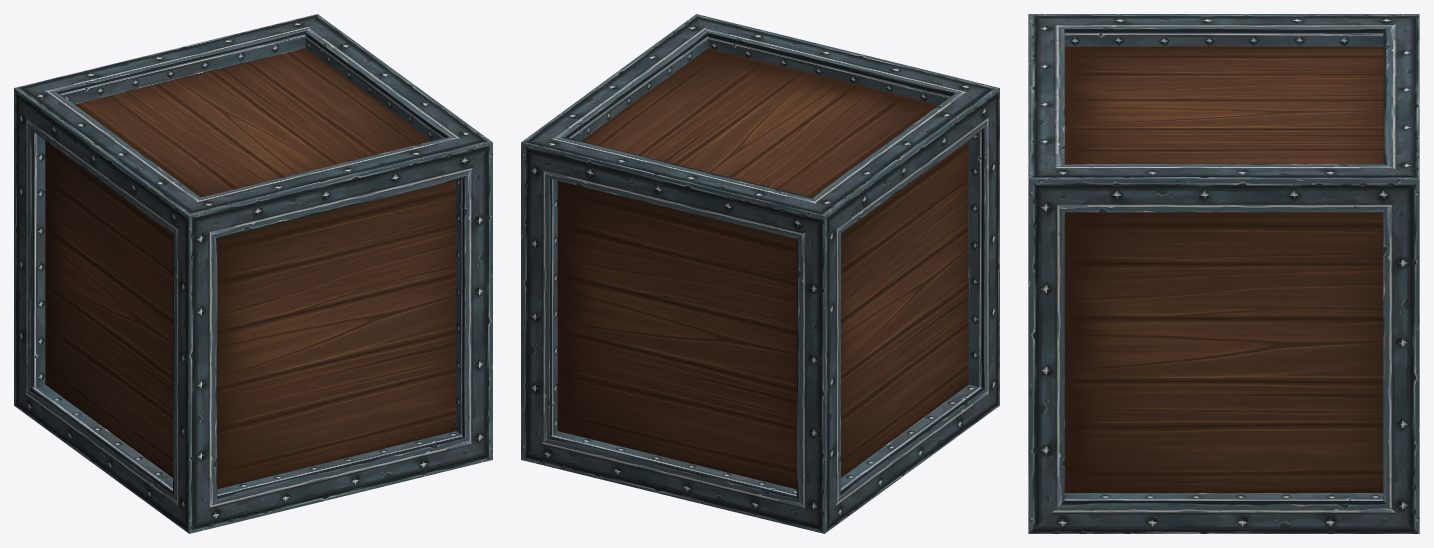
The picture shows the model from 3 angles, left to right: view 1: azimuth 30°, elevation 25°; view 2: azimuth 150°, elevation 25°; view 3: azimuth 270°, elevation 25°; orthographic projection. The views are drawn at different scales.
Visible parts, largest first — view 1: interactiveObject; view 2: interactiveObject; view 3: interactiveObject.
Boxes of the visible parts, x1,y1,x2,y2 form: interactiveObject: (14, 14, 492, 533); interactiveObject: (521, 14, 999, 533); interactiveObject: (1028, 14, 1419, 533).
Size of what is drawn, in the model's own units: 0.5 by 0.5 by 0.5.
2 materials, 2 textured.
